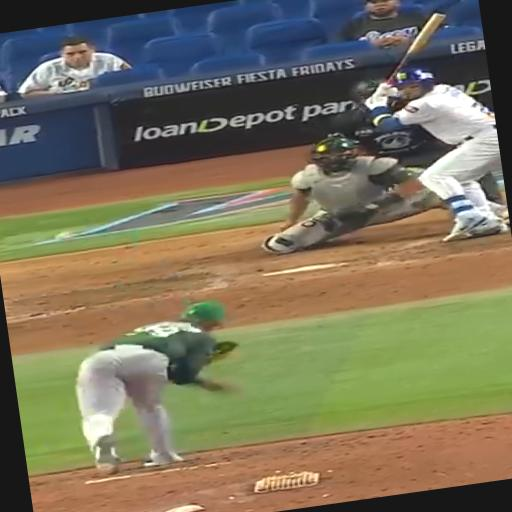bat: (387, 13, 446, 83)
